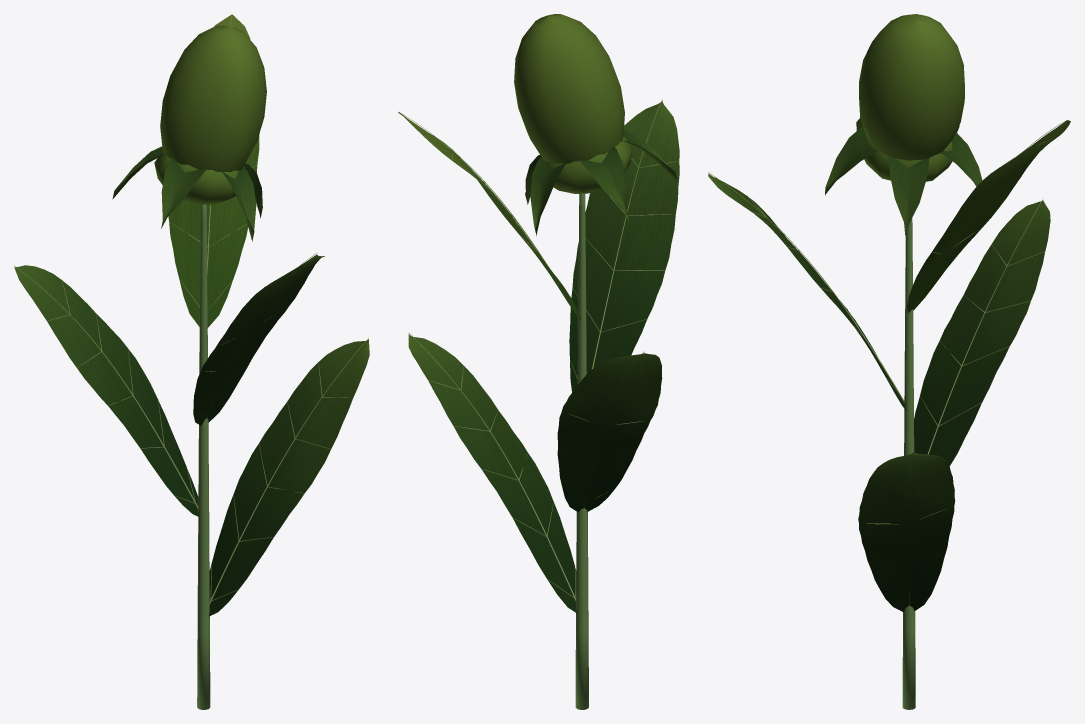
Rendered from tulip-07.glb.
3 views of the same model, side by side, from view 1: azimuth 30°, elevation 25°; view 2: azimuth 150°, elevation 25°; view 3: azimuth 270°, elevation 25° (orthographic). The views are drawn at different scales.
Parts seen in each view (by area): view 1: tulip_stage_07_leaf_veins.012, tulip_stage_07_young_leaf.012, tulip_stage_07_stem_fibres.012, tulip_stage_07_raised_midveins.012; view 2: tulip_stage_07_leaf_veins.012, tulip_stage_07_young_leaf.012, tulip_stage_07_stem_fibres.012, tulip_stage_07_raised_midveins.012; view 3: tulip_stage_07_leaf_veins.012, tulip_stage_07_young_leaf.012, tulip_stage_07_stem_fibres.012, tulip_stage_07_raised_midveins.012.
Part boxes in pixels (x1=…): tulip_stage_07_leaf_veins.012: x1=14, y1=146, x2=369, y2=616; tulip_stage_07_young_leaf.012: x1=154, y1=14, x2=266, y2=327; tulip_stage_07_stem_fibres.012: x1=197, y1=204, x2=210, y2=709; tulip_stage_07_raised_midveins.012: x1=14, y1=14, x2=368, y2=604; tulip_stage_07_leaf_veins.012: x1=408, y1=100, x2=679, y2=613; tulip_stage_07_young_leaf.012: x1=398, y1=14, x2=632, y2=321; tulip_stage_07_stem_fibres.012: x1=575, y1=193, x2=588, y2=709; tulip_stage_07_raised_midveins.012: x1=398, y1=99, x2=678, y2=601; tulip_stage_07_leaf_veins.012: x1=708, y1=118, x2=1050, y2=611; tulip_stage_07_young_leaf.012: x1=859, y1=14, x2=1070, y2=313; tulip_stage_07_stem_fibres.012: x1=902, y1=218, x2=915, y2=709; tulip_stage_07_raised_midveins.012: x1=708, y1=120, x2=1067, y2=604.
Bounding box in the file's own units: 0.2049 × 0.444 × 0.2083.
Materials: 4 (2 with a texture image).
